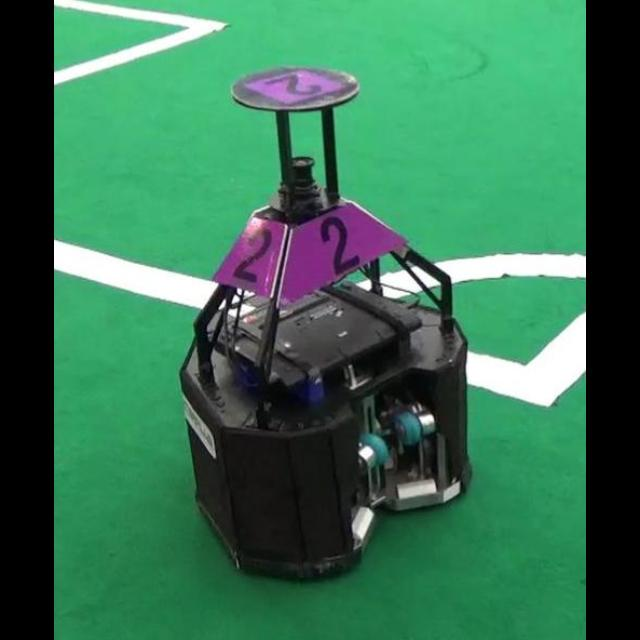robot: (180, 68, 470, 577)
